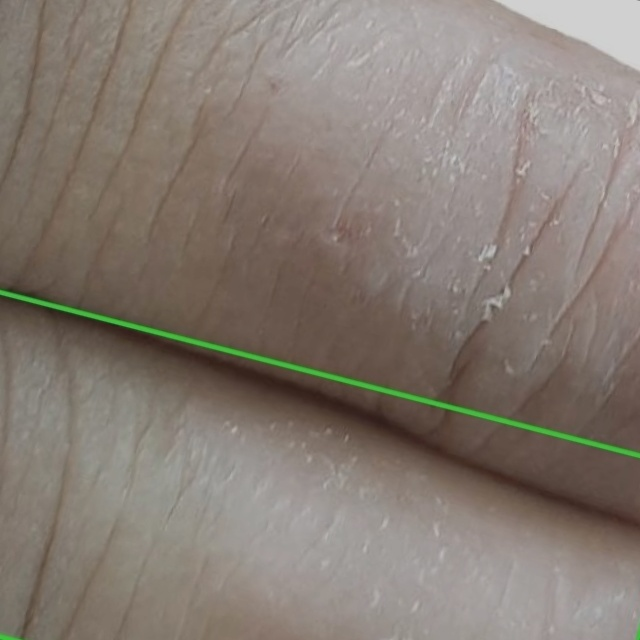Eczema: (0, 293, 639, 639)
